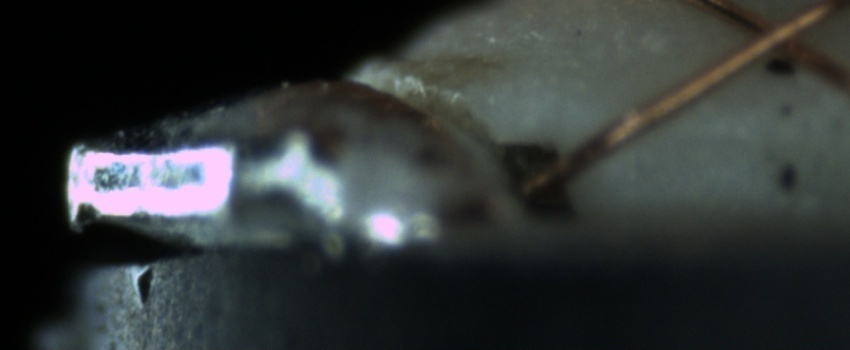CL: (724, 1, 821, 72)
DL: (635, 110, 775, 168)
